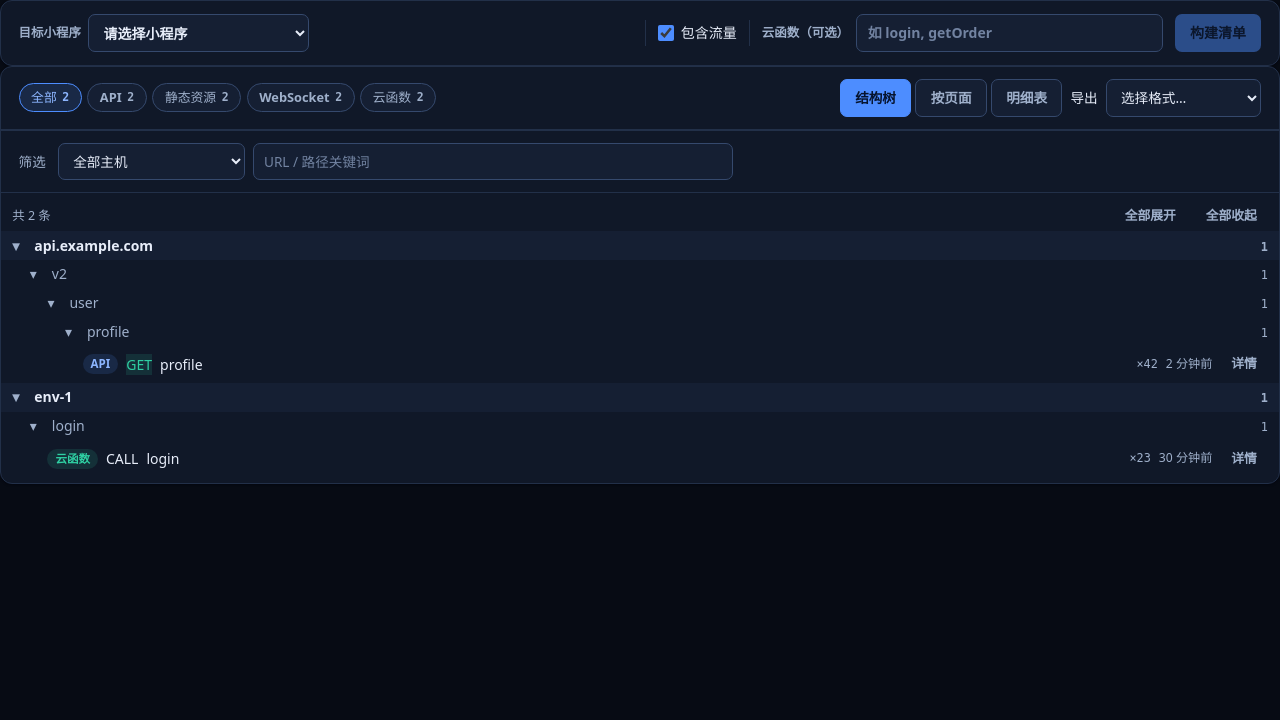
Test: AssetsView › expands a leaf to show the full URL, tags and sources
Click the button with test id "assets-expand-a-1".
click(1244, 364)  # box left=1220, top=349, right=1268, bottom=379
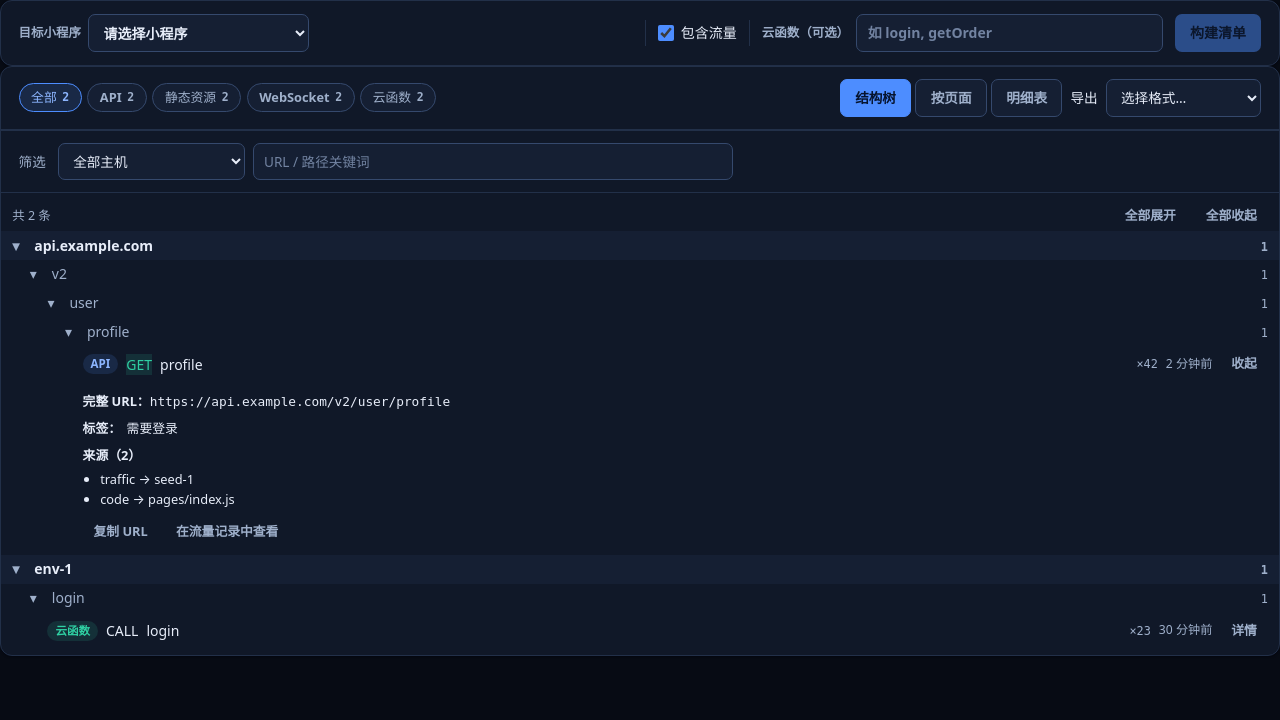
Now the element with test id "assets-detail-a-1" shows "https://api.example.com/v2/user/profile", box left=150, top=394, right=450, bottom=409
Now the element with test id "assets-detail-a-1" shows "需要登录", box left=127, top=419, right=178, bottom=437
Now the element with test id "assets-detail-a-1" shows "traffic → seed-1", box left=100, top=470, right=194, bottom=488
